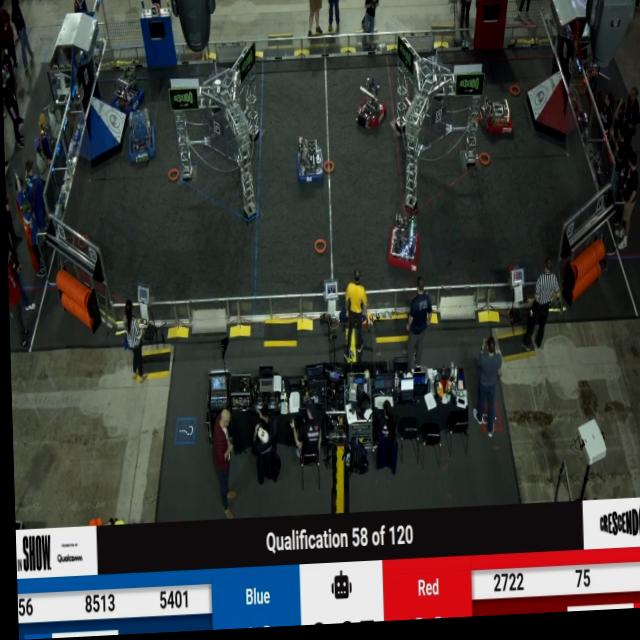Robot: (119, 104, 164, 172), (382, 207, 417, 282), (475, 95, 515, 148), (352, 78, 386, 140), (294, 137, 328, 192), (113, 65, 143, 123)
